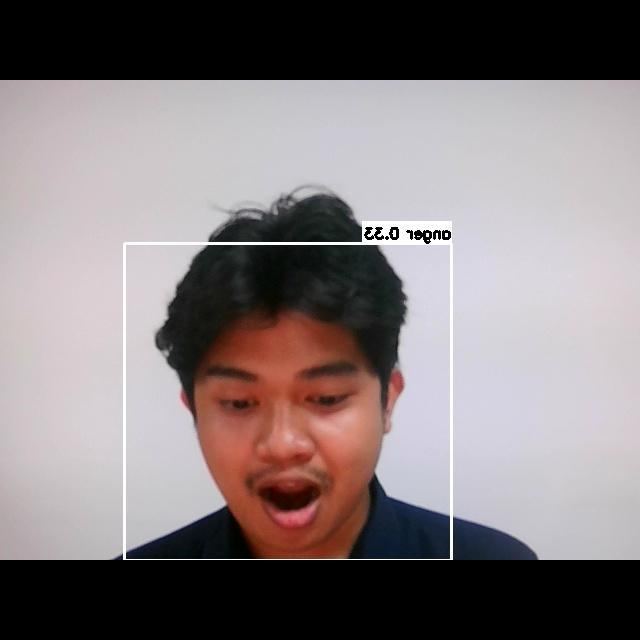Surprised: (170, 326, 406, 532)
